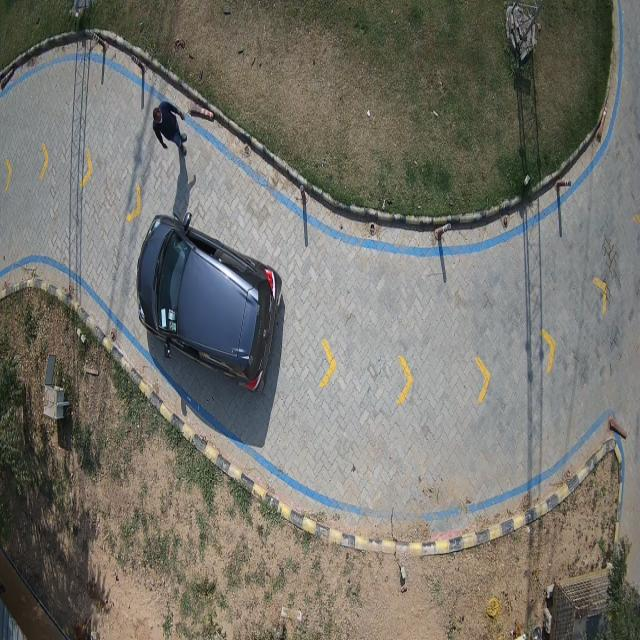car: (136, 213, 282, 390)
